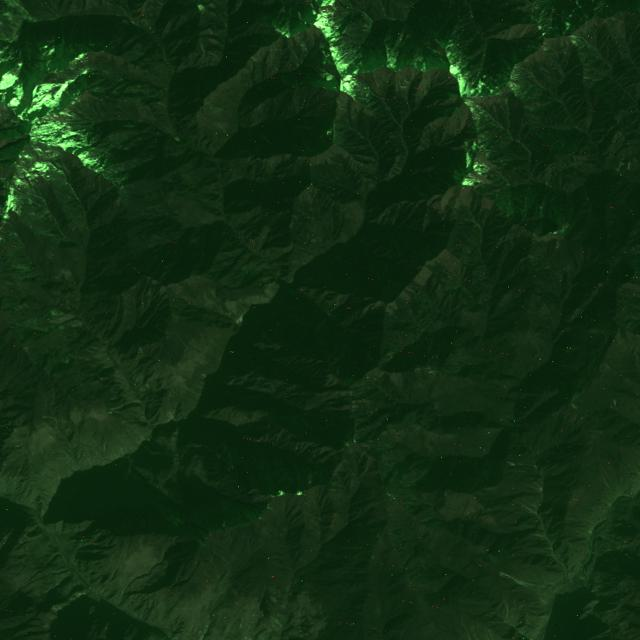landslides: (499, 571, 546, 595), (105, 397, 141, 413), (1, 505, 17, 540), (513, 500, 537, 514), (584, 592, 601, 610), (576, 608, 595, 624), (613, 399, 627, 420), (46, 614, 66, 626), (186, 386, 200, 401), (592, 629, 611, 640), (52, 605, 67, 616), (601, 471, 610, 489), (526, 533, 545, 541), (107, 411, 132, 417), (524, 500, 540, 509), (506, 464, 534, 469), (271, 617, 283, 628), (616, 161, 626, 173), (166, 411, 175, 424), (503, 601, 508, 624), (534, 537, 547, 545), (69, 596, 79, 606)
